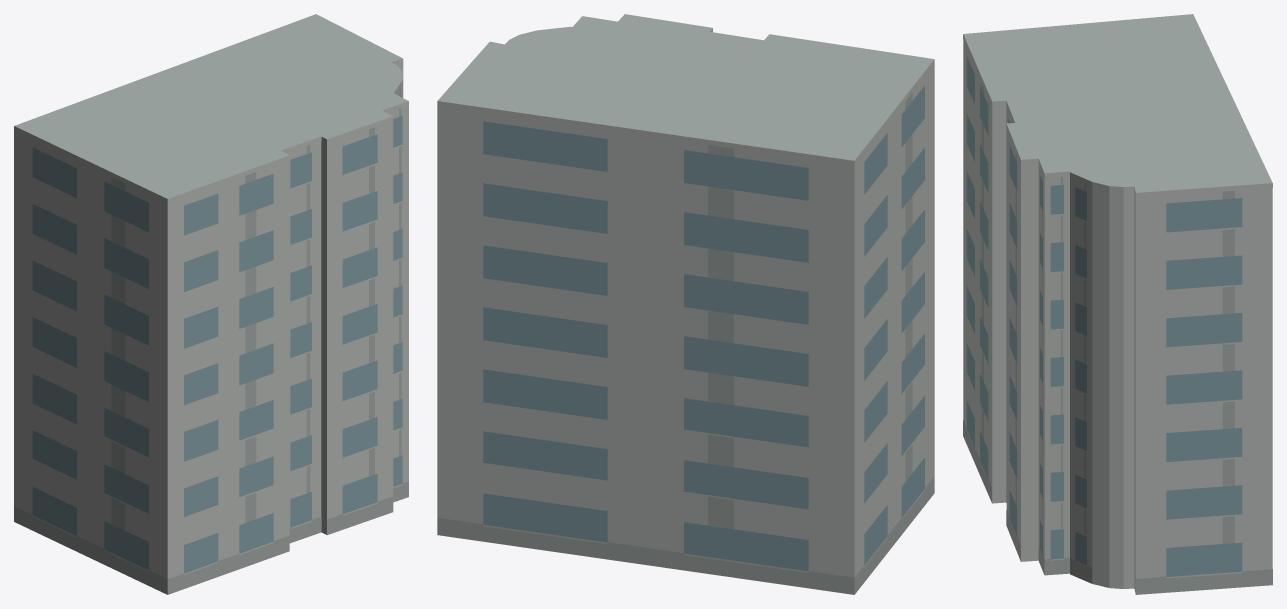
Rendered from survey-upis-32699306.glb.
3 renders of one model, left to right at view 1: azimuth 30°, elevation 25°; view 2: azimuth 150°, elevation 25°; view 3: azimuth 270°, elevation 25°, orthographic. The views are drawn at different scales.
Parts seen in each view (by area): view 1: survey-upis-32699306.tmp; view 2: survey-upis-32699306.tmp; view 3: survey-upis-32699306.tmp.
Part boxes in pixels (x1,y1,x2,y2): survey-upis-32699306.tmp: (14,14,408,594); survey-upis-32699306.tmp: (437,14,934,594); survey-upis-32699306.tmp: (963,14,1272,594).
Size of the model in its own units: 19.76 by 20.7 by 14.46.
